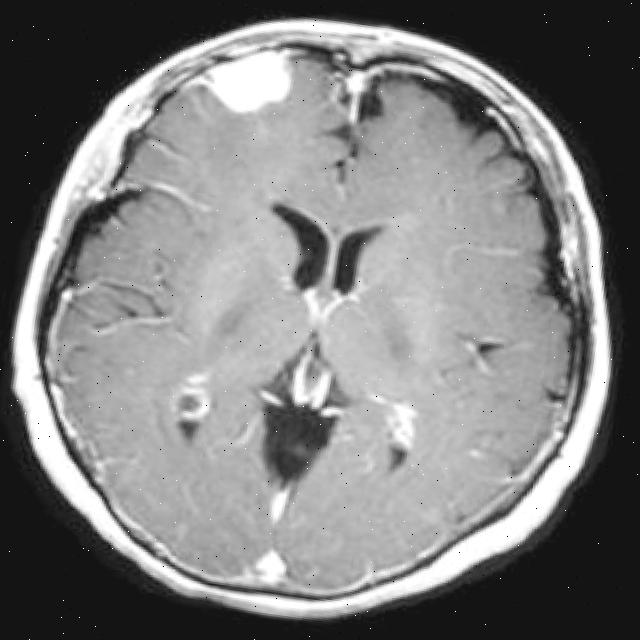tumor: (189, 45, 303, 113)
